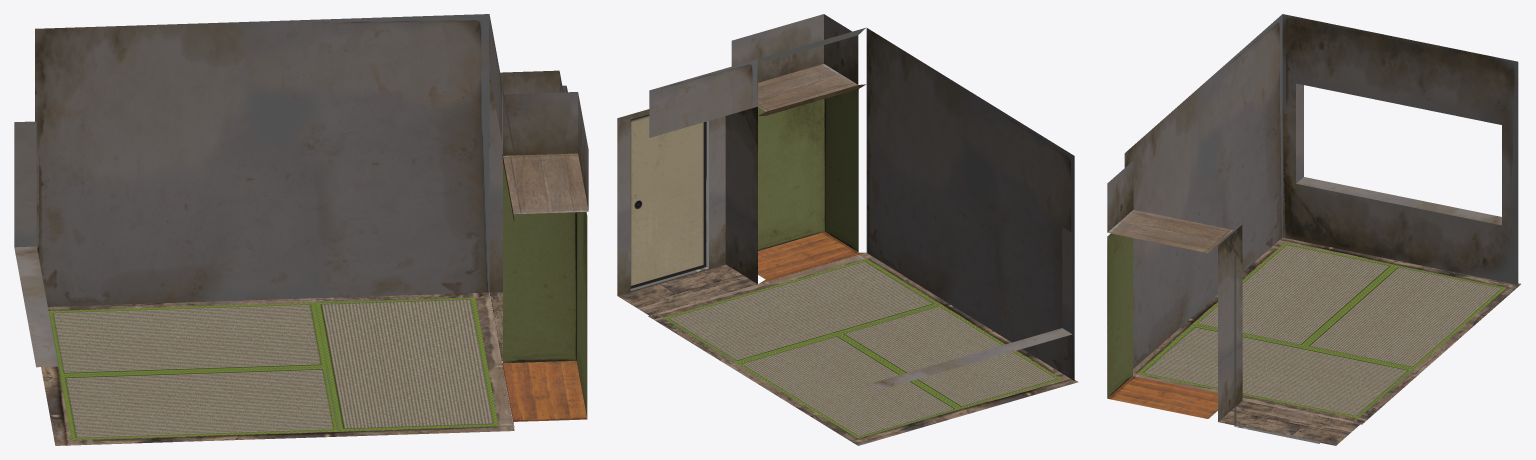
File: DoorMap01.glb
3 views of the same model, side by side, from view 1: azimuth 30°, elevation 25°; view 2: azimuth 150°, elevation 25°; view 3: azimuth 270°, elevation 25° (orthographic). The views are drawn at different scales.
Visible parts, largest first — view 1: Object_6; view 2: Object_6, Object_6.001; view 3: Object_6.
Part boxes in pixels (x1=…): Object_6: x1=14, y1=14, x2=588, y2=445; Object_6: x1=617, y1=14, x2=1078, y2=445; Object_6.001: x1=630, y1=114, x2=706, y2=288; Object_6: x1=1107, y1=14, x2=1520, y2=445.
Bounding box in the file's own units: 5.37 × 2.63 × 4.42.
1 material, 1 textured.
